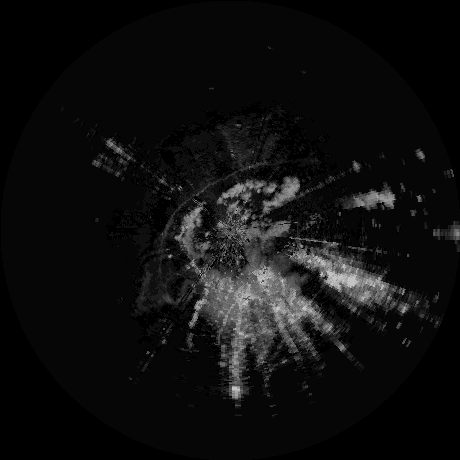frontgust: (158, 161, 267, 248)
